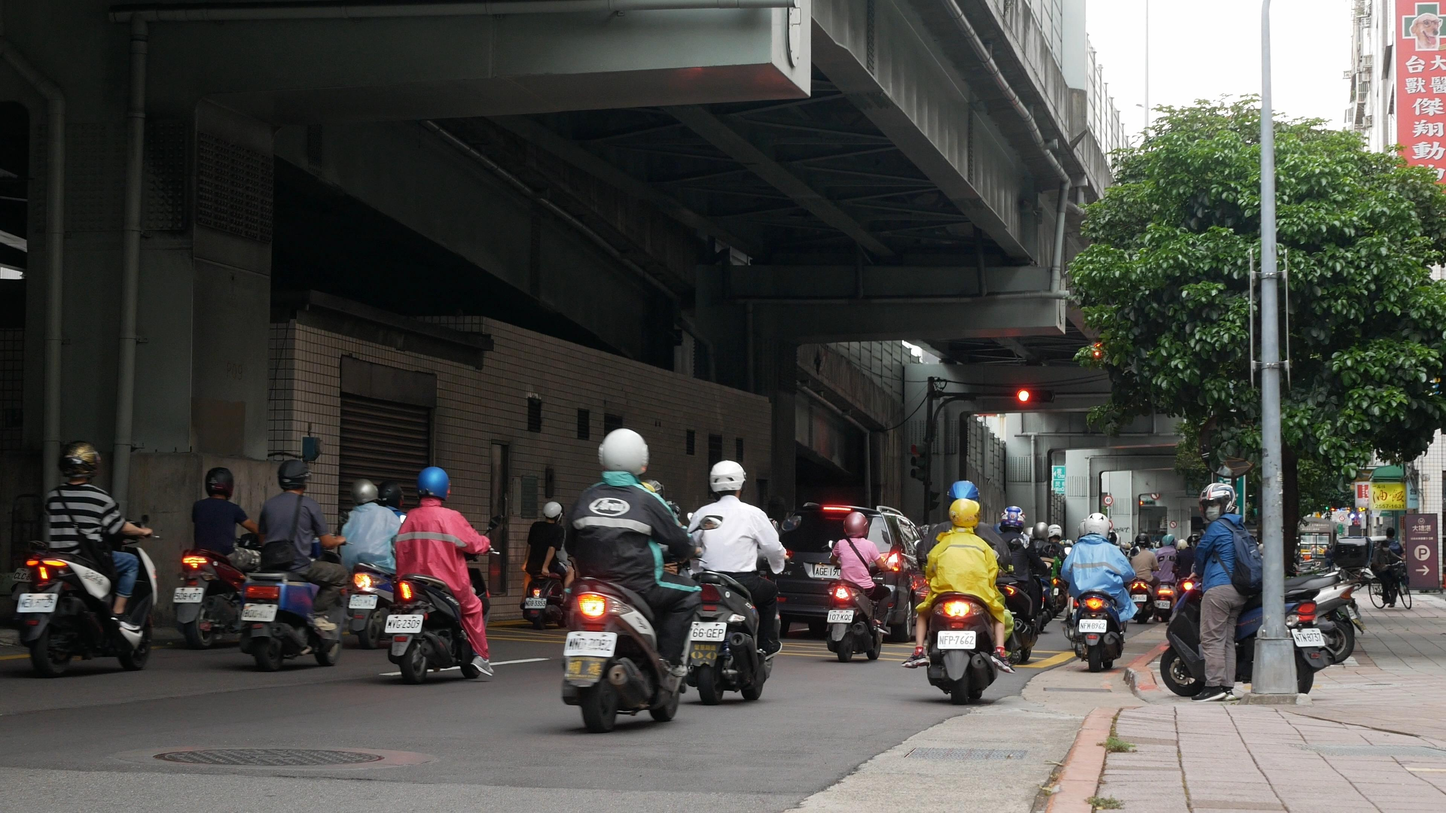bicyclist: (1368, 540, 1412, 610)
driver: (563, 428, 724, 735), (15, 440, 164, 677), (685, 459, 803, 706), (901, 480, 1016, 706), (384, 466, 503, 684), (239, 460, 355, 672), (173, 466, 262, 651), (1059, 513, 1141, 673), (825, 511, 903, 663), (340, 478, 407, 650), (995, 506, 1052, 661), (520, 501, 576, 631), (1126, 533, 1165, 624), (1152, 534, 1180, 622)
helmet: (598, 428, 649, 475), (59, 441, 102, 479), (1198, 483, 1237, 524), (709, 459, 746, 500), (417, 466, 451, 503), (278, 460, 312, 491), (949, 498, 981, 530), (947, 480, 980, 510), (205, 467, 234, 501), (350, 478, 378, 506), (1000, 505, 1026, 534), (379, 481, 404, 510), (843, 511, 869, 538), (1084, 513, 1109, 539), (542, 501, 565, 524), (1032, 522, 1049, 542), (1135, 533, 1151, 548), (1187, 534, 1202, 550), (1048, 524, 1062, 541), (1161, 534, 1178, 548), (1078, 518, 1087, 538)
no-helmet: (1381, 540, 1391, 552)
